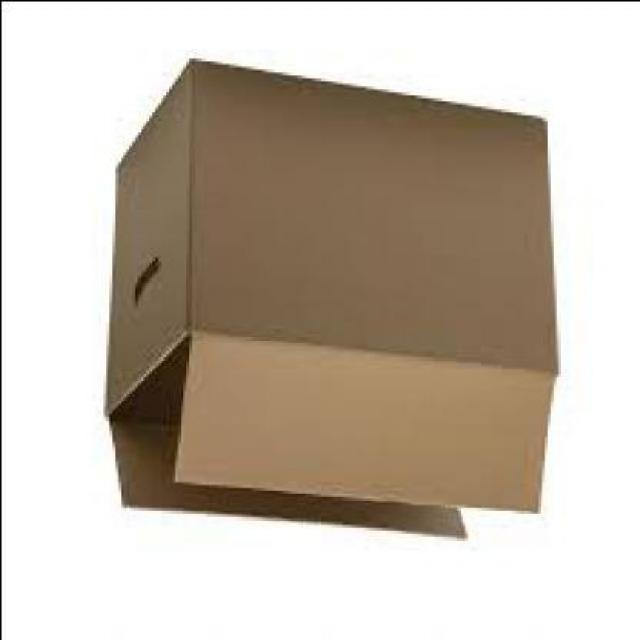box: (100, 60, 555, 535)
